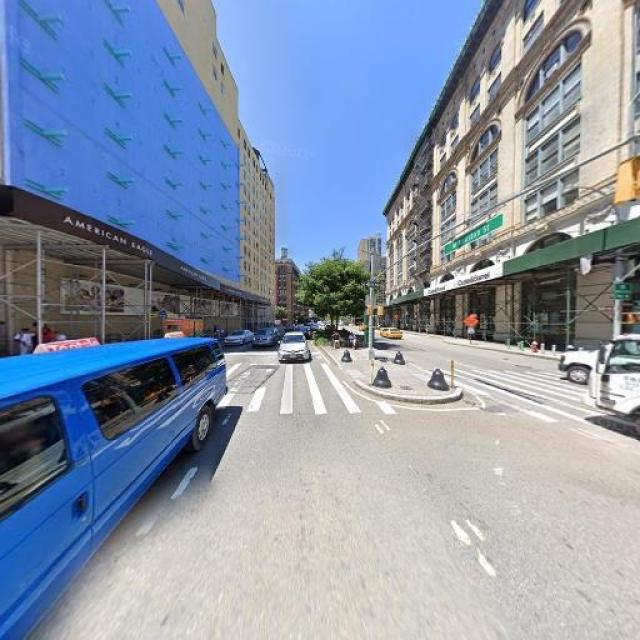Building: (385, 1, 640, 363), (1, 1, 243, 372)
